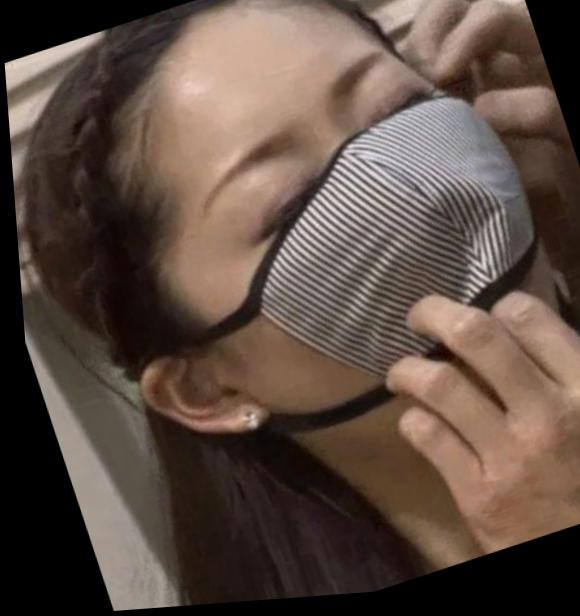WRONG: (135, 1, 580, 512)
